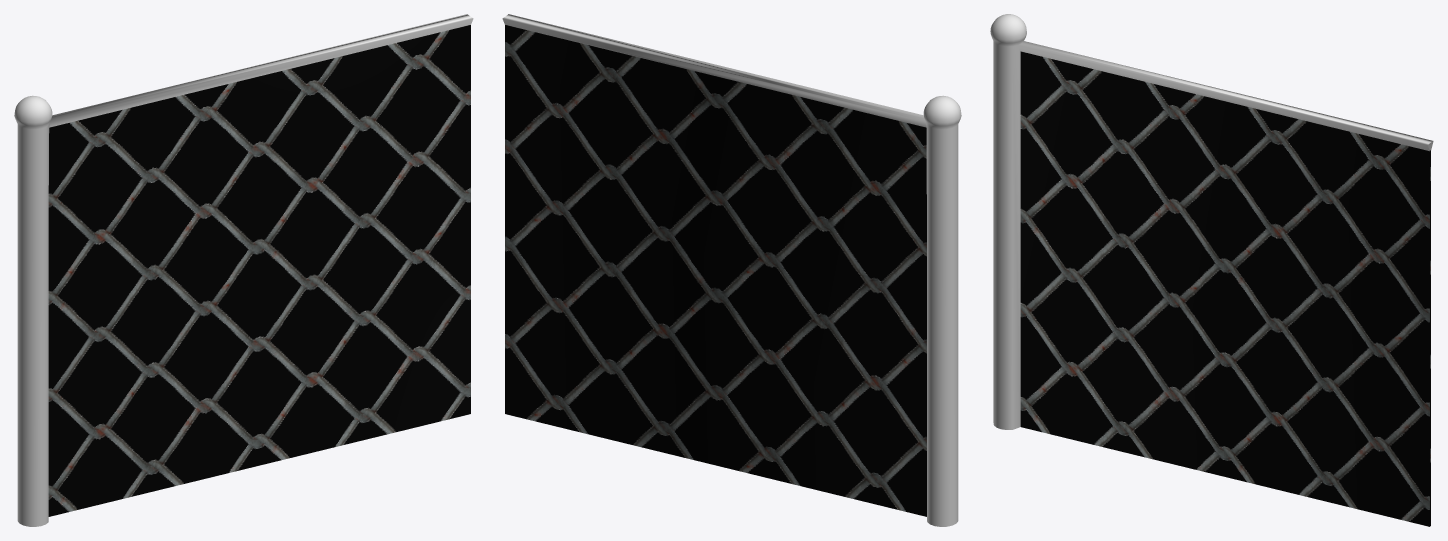
The model's file is fence.fbx.
The picture shows the model from 3 angles, left to right: view 1: azimuth 30°, elevation 25°; view 2: azimuth 150°, elevation 25°; view 3: azimuth 330°, elevation 25°; orthographic projection. The views are drawn at different scales.
Visible parts, largest first — view 1: Cylinder; view 2: Cylinder; view 3: Cylinder.
Boxes of the visible parts, box(x1,y1,x2,y2) form: Cylinder: box(14, 14, 473, 526); Cylinder: box(502, 14, 961, 526); Cylinder: box(990, 14, 1433, 526).
Bounding box in the file's own units: 0.0759 × 0.9231 × 1.04.
Materials: 2 (1 with a texture image).
